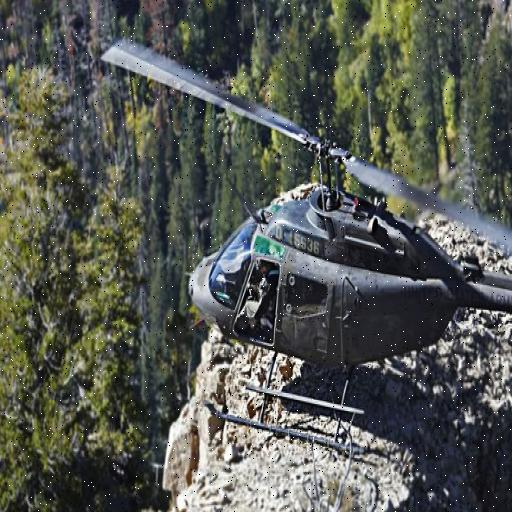helicopter: (106, 38, 512, 454)
